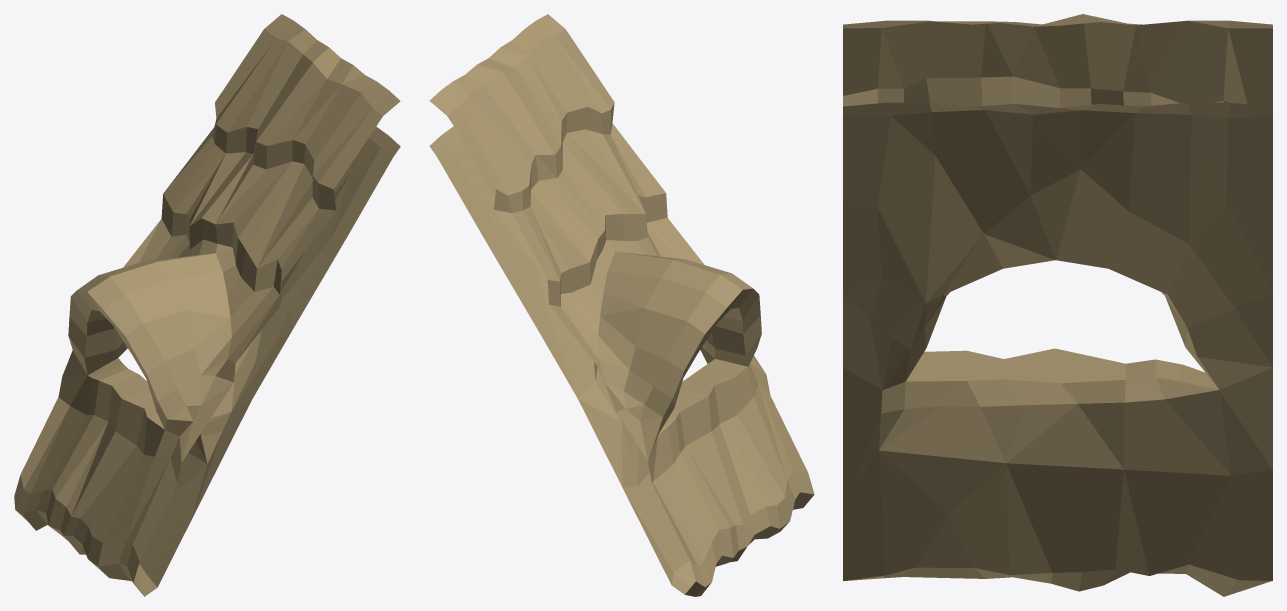
The model's file is rpgpp_ag_roof_02d_6x5x3_half.fbx.
The picture shows the model from 3 angles, left to right: view 1: azimuth 30°, elevation 25°; view 2: azimuth 150°, elevation 25°; view 3: azimuth 270°, elevation 25°; orthographic projection. The views are drawn at different scales.
Visible parts, largest first — view 1: rpgpp_ag_roof_02d_6x5x3_half; view 2: rpgpp_ag_roof_02d_6x5x3_half; view 3: rpgpp_ag_roof_02d_6x5x3_half.
Boxes of the visible parts, x1=… form: rpgpp_ag_roof_02d_6x5x3_half: x1=14, y1=14, x2=400, y2=596; rpgpp_ag_roof_02d_6x5x3_half: x1=429, y1=14, x2=814, y2=596; rpgpp_ag_roof_02d_6x5x3_half: x1=843, y1=14, x2=1272, y2=596.
Bounding box in the file's own units: 3.97 × 6.2 × 3.
